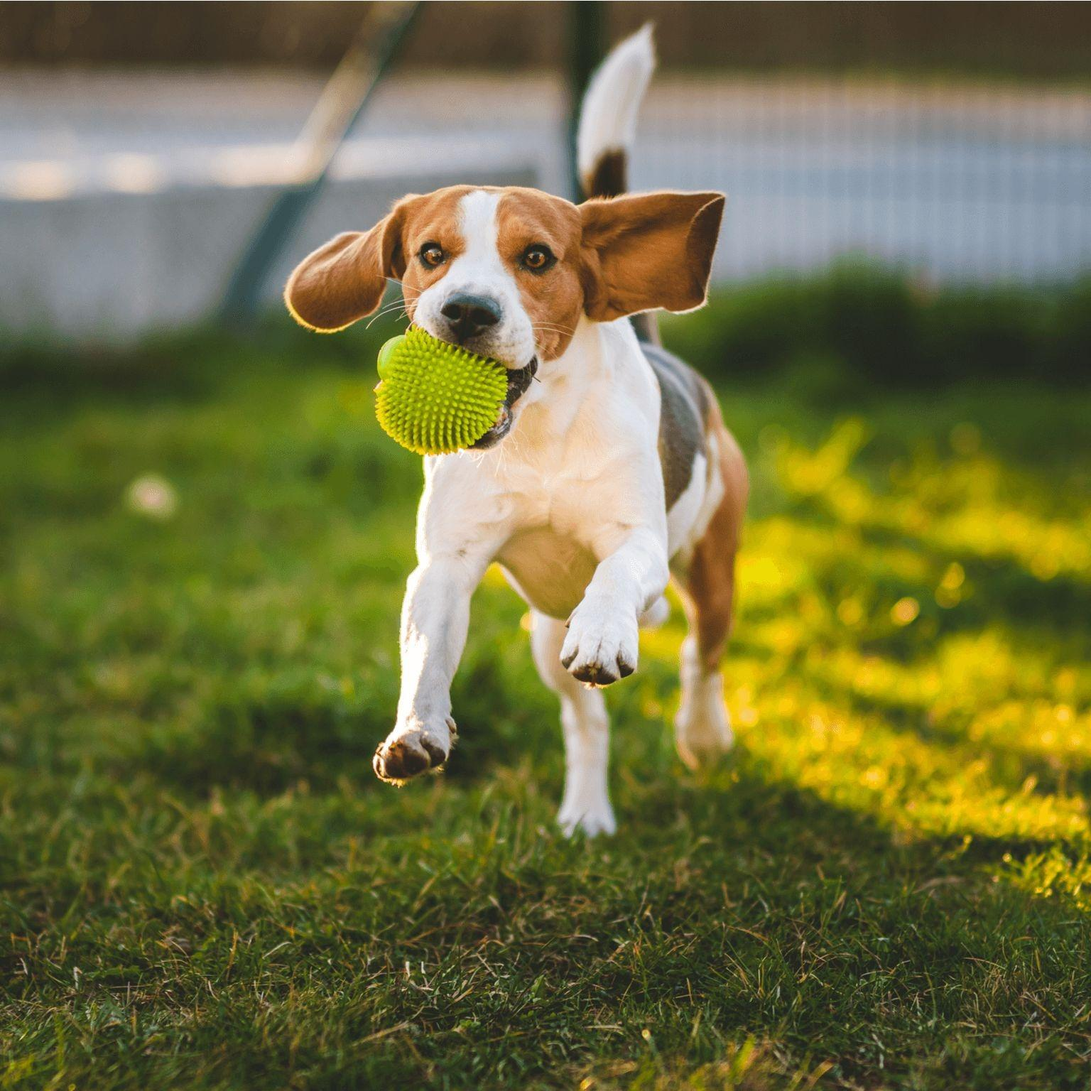adult_dog: (281, 19, 751, 849)
